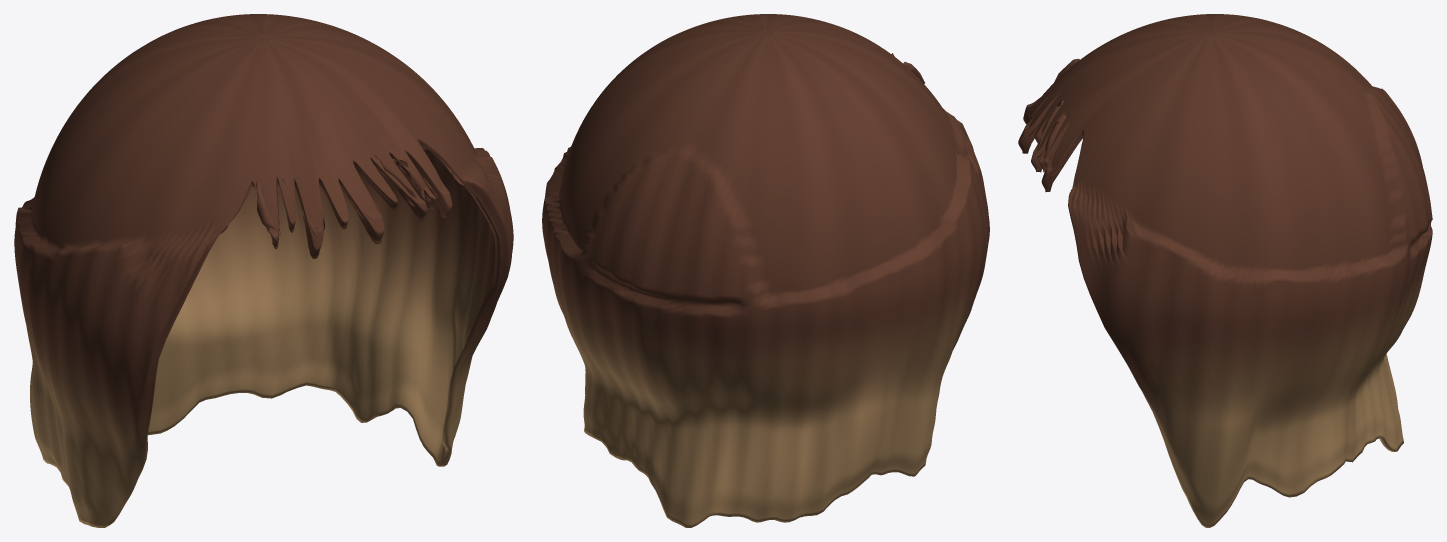
File: side-sweep-cap-ombre.glb
3 views of the same model, side by side, from view 1: azimuth 30°, elevation 25°; view 2: azimuth 150°, elevation 25°; view 3: azimuth 270°, elevation 25° (orthographic). The views are drawn at different scales.
Visible parts, largest first — view 1: Hair / layered lob; view 2: Hair / layered lob; view 3: Hair / layered lob.
Part boxes in pixels (box(x1,y1,x2,y2)): Hair / layered lob: box(14, 14, 513, 527); Hair / layered lob: box(542, 14, 989, 527); Hair / layered lob: box(1018, 14, 1432, 527).
Size of the model in its own units: 0.8388 by 0.8705 by 0.7816.
